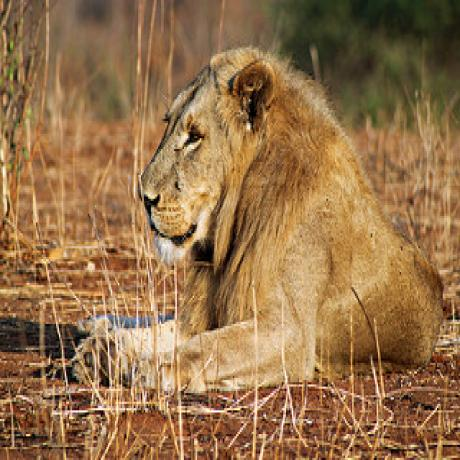Lion: (74, 46, 445, 393)
